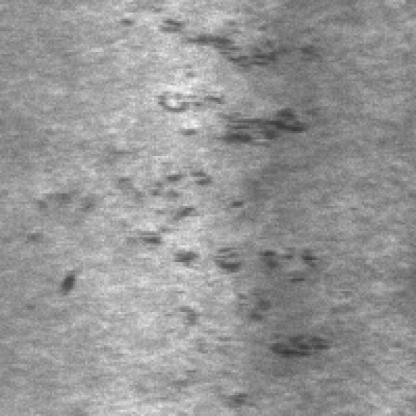rolled-in_scale: (110, 168, 325, 360), (139, 12, 300, 144)
